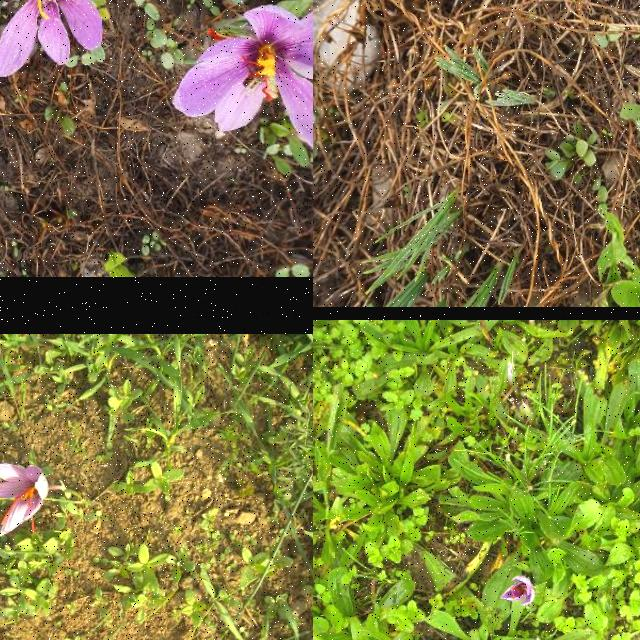flower: (172, 5, 313, 155), (0, 0, 143, 76), (0, 463, 48, 537), (502, 577, 534, 605)
